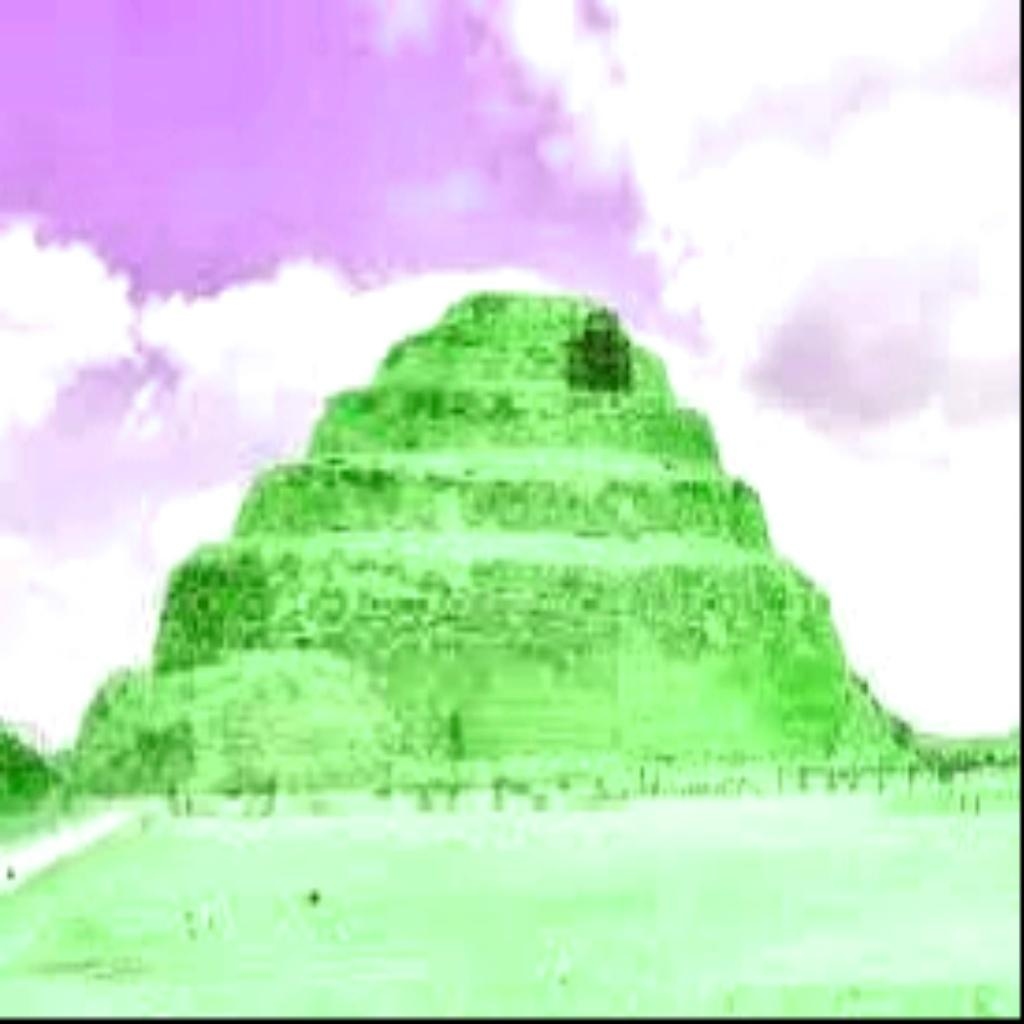Pyramid of Djoser: (64, 280, 920, 794)
